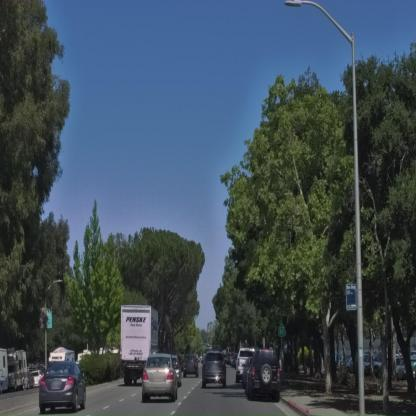car: (40, 360, 88, 416), (140, 354, 182, 404), (243, 350, 280, 401), (201, 350, 225, 386), (235, 350, 254, 383), (182, 354, 198, 379)
truck: (120, 306, 154, 387), (0, 349, 28, 394)
